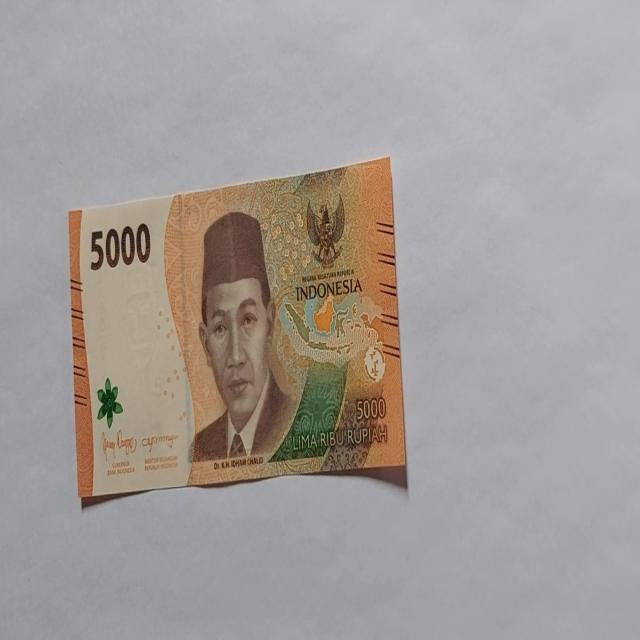lima ribu rupiah: (66, 157, 409, 512), (186, 210, 298, 468)
